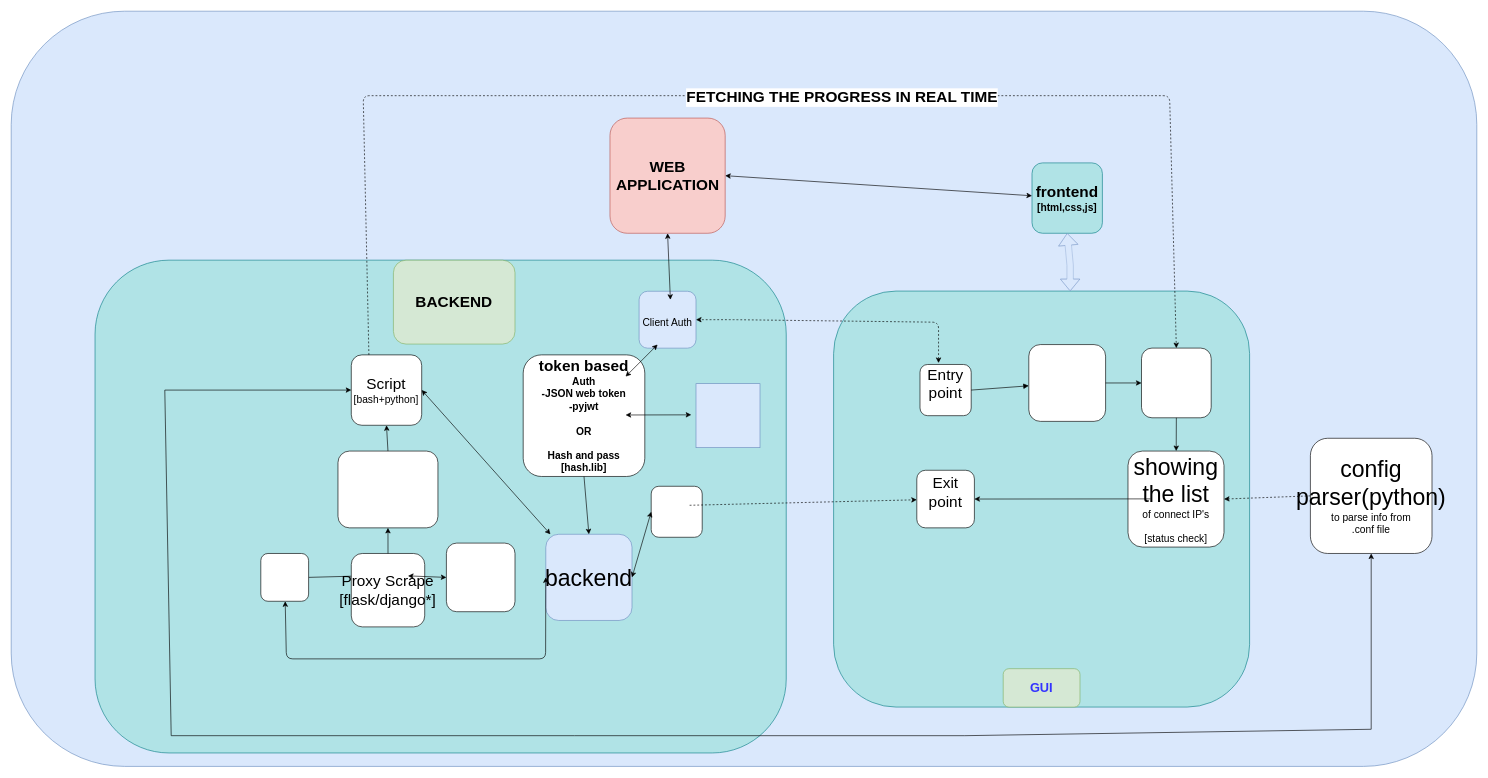
Some shapes in this 1488 by 778 pixel diagram are drawn without their labels. The shapes that lost their labels are listed below. From the top down, each one's box as (x1, y1, x2, y2) in pixels, then its label:
(1028, 344, 1106, 421): user runs [chain lenght] [priority]
(1141, 347, 1211, 418): Running the script {showing cli}
(695, 383, 760, 448): postgres SQL
(337, 450, 438, 528): request/subprocess to pipe scraped info to script
(651, 486, 702, 537): Logout feature
(260, 553, 309, 601): RESTfull API
(446, 542, 515, 612): selenium/ scrapy pylibs for scraping
